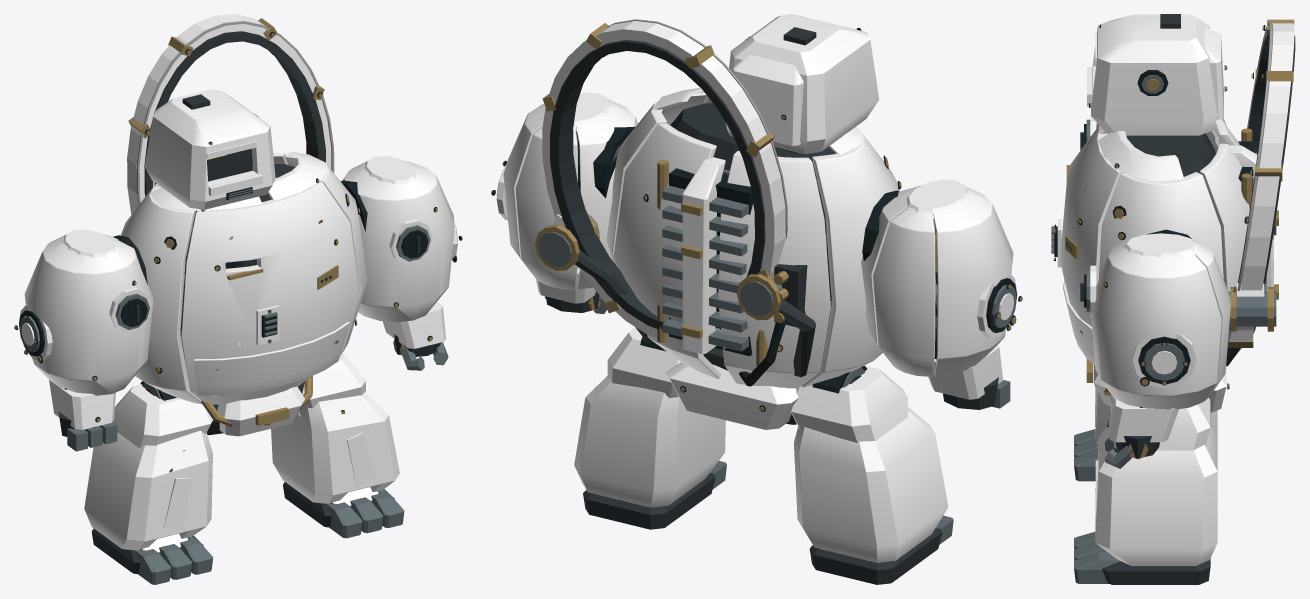
Rendered from mechanical-citizens-blue-barrel-heavy-v1.glb.
3 renders of one model, left to right at view 1: azimuth 30°, elevation 25°; view 2: azimuth 150°, elevation 25°; view 3: azimuth 270°, elevation 25°, orthographic. The views are drawn at different scales.
Parts seen in each view (by area): view 1: PLATE_barrel_breastplate, PLATE_arm_pod.R, PLATE_arm_pod.L, PLATE_shin_boot_shell.R, PLATE_cab_main_shell, PLATE_shin_boot_shell.L, PLATE_barrel_flank.R, PLATE_orange_back_hoop, CORE_chest, PLATE_thigh_upper_guard.R, CORE_foot.L, CORE_foot.R (+11 smaller); view 2: CORE_chest, PLATE_shin_boot_shell.R, PLATE_arm_pod.R, PLATE_shin_boot_shell.L, PLATE_barrel_rear_petal.R, PLATE_orange_back_hoop, PLATE_barrel_flank.R, PLATE_cab_main_shell, PLATE_barrel_rear_petal.L, PLATE_arm_rear_strip.R, PLATE_arm_pod.L, PLATE_rear_cooler_spine (+14 smaller); view 3: PLATE_arm_pod.L, PLATE_cab_main_shell, PLATE_shin_boot_shell.L, PLATE_orange_back_hoop, PLATE_barrel_breastplate, PLATE_barrel_flank.L, CORE_chest, PLATE_barrel_rear_petal.L, CORE_foot.L, PLATE_upper_collar.L, PLATE_wrist_guard.L, PLATE_thigh_upper_guard.L (+9 smaller).
Part boxes in pixels (x1,y1,x2,y2): PLATE_barrel_breastplate: (181,182,359,404); PLATE_arm_pod.R: (14,229,153,395); PLATE_arm_pod.L: (343,156,462,322); PLATE_shin_boot_shell.R: (84,430,212,550); PLATE_cab_main_shell: (144,89,275,209); PLATE_shin_boot_shell.L: (271,392,399,503); PLATE_barrel_flank.R: (121,186,201,403); PLATE_orange_back_hoop: (127,14,334,214); CORE_chest: (144,31,325,372); PLATE_thigh_upper_guard.R: (113,384,212,448); CORE_foot.L: (283,482,404,538); CORE_foot.R: (91,528,213,584); CORE_chest: (535,40,836,386); PLATE_shin_boot_shell.R: (794,407,948,562); PLATE_arm_pod.R: (861,179,1022,376); PLATE_shin_boot_shell.L: (574,376,725,507); PLATE_barrel_rear_petal.R: (718,151,830,388); PLATE_orange_back_hoop: (542,19,787,344); PLATE_barrel_flank.R: (802,135,901,387); PLATE_cab_main_shell: (725,14,879,154); PLATE_barrel_rear_petal.L: (614,123,721,378); PLATE_arm_rear_strip.R: (873,207,935,376); PLATE_arm_pod.L: (491,92,640,289); PLATE_rear_cooler_spine: (681,157,725,354); PLATE_arm_pod.L: (1080,233,1221,409); PLATE_cab_main_shell: (1087,14,1217,135); PLATE_shin_boot_shell.L: (1095,422,1217,565); PLATE_orange_back_hoop: (1227,19,1294,347); PLATE_barrel_breastplate: (1051,125,1123,364); PLATE_barrel_flank.L: (1098,172,1223,279); CORE_chest: (1126,35,1295,366); PLATE_barrel_rear_petal.L: (1200,143,1249,355); CORE_foot.L: (1074,532,1210,584); PLATE_upper_collar.L: (1098,131,1183,181); PLATE_wrist_guard.L: (1106,398,1178,442); PLATE_thigh_upper_guard.L: (1157,397,1210,450).
Size of the model in its own units: 3.06 by 3.14 by 1.38.
